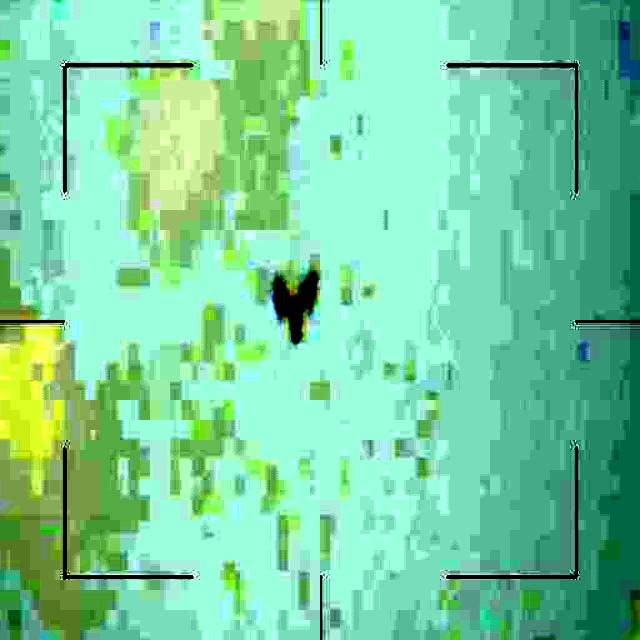bird: (262, 256, 321, 341)
